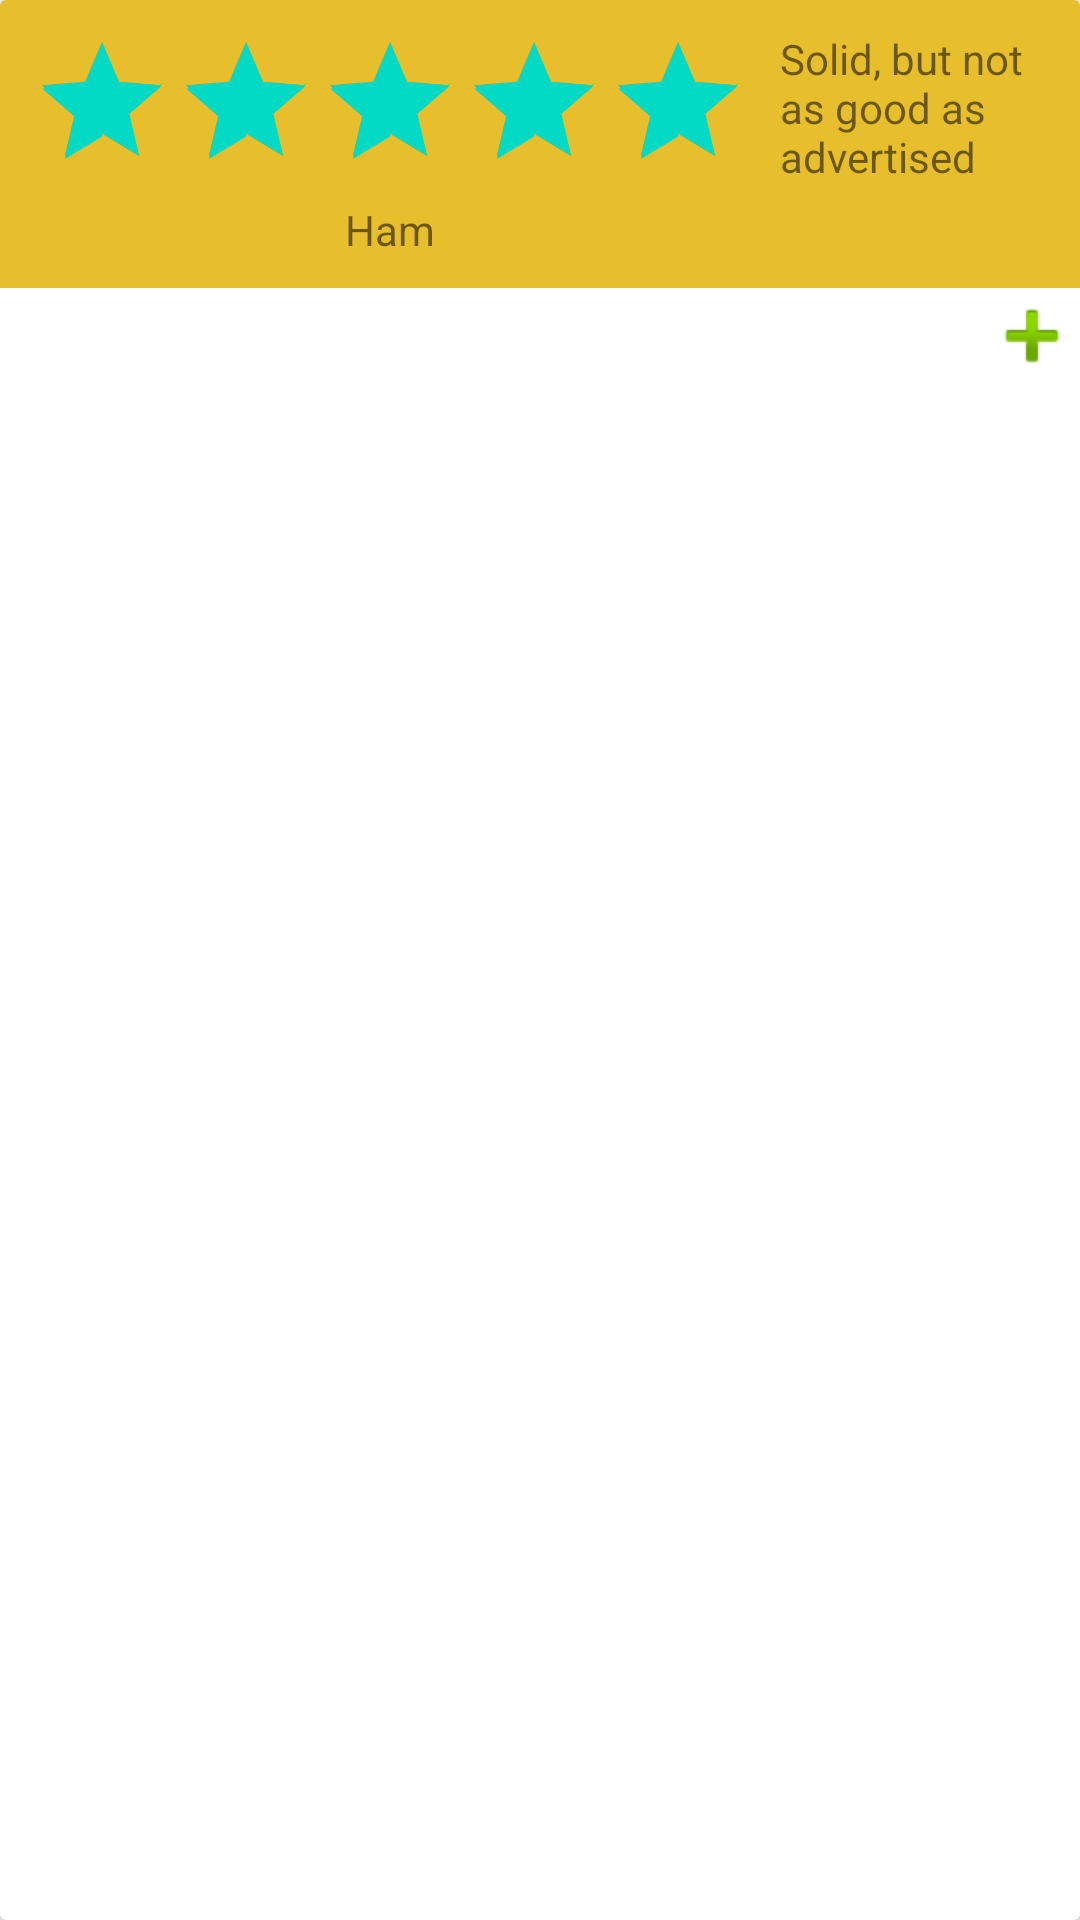

Screen size 1080 × 1920. Icon name, then its center in pixels as point (x, y):
add: point (1032, 336)
